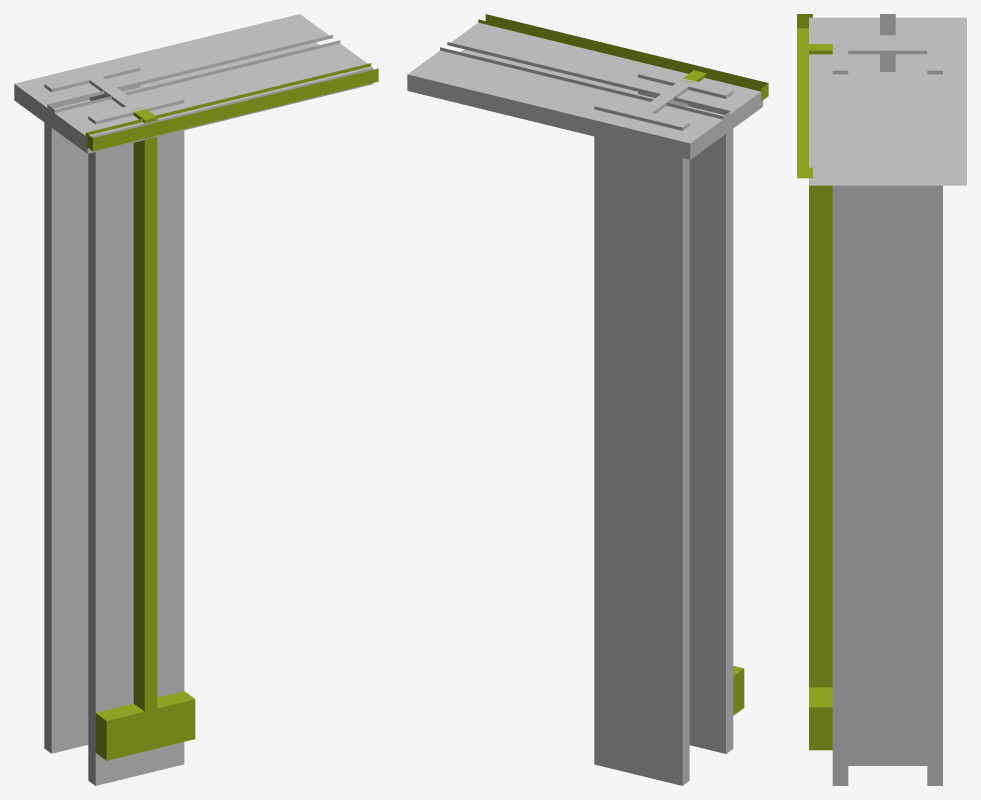
Rendered from cell_30.obj.
3 renders of one model, left to right at view 1: azimuth 30°, elevation 25°; view 2: azimuth 150°, elevation 25°; view 3: azimuth 270°, elevation 25°, orthographic. The views are drawn at different scales.
Bounding box in the file's own units: 0.45 × 1 × 0.215.
